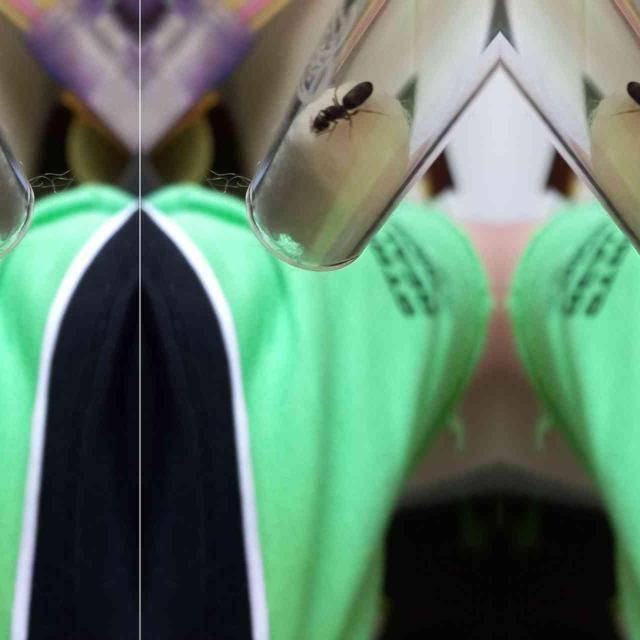Lasius: (296, 74, 382, 142), (618, 74, 640, 142)
